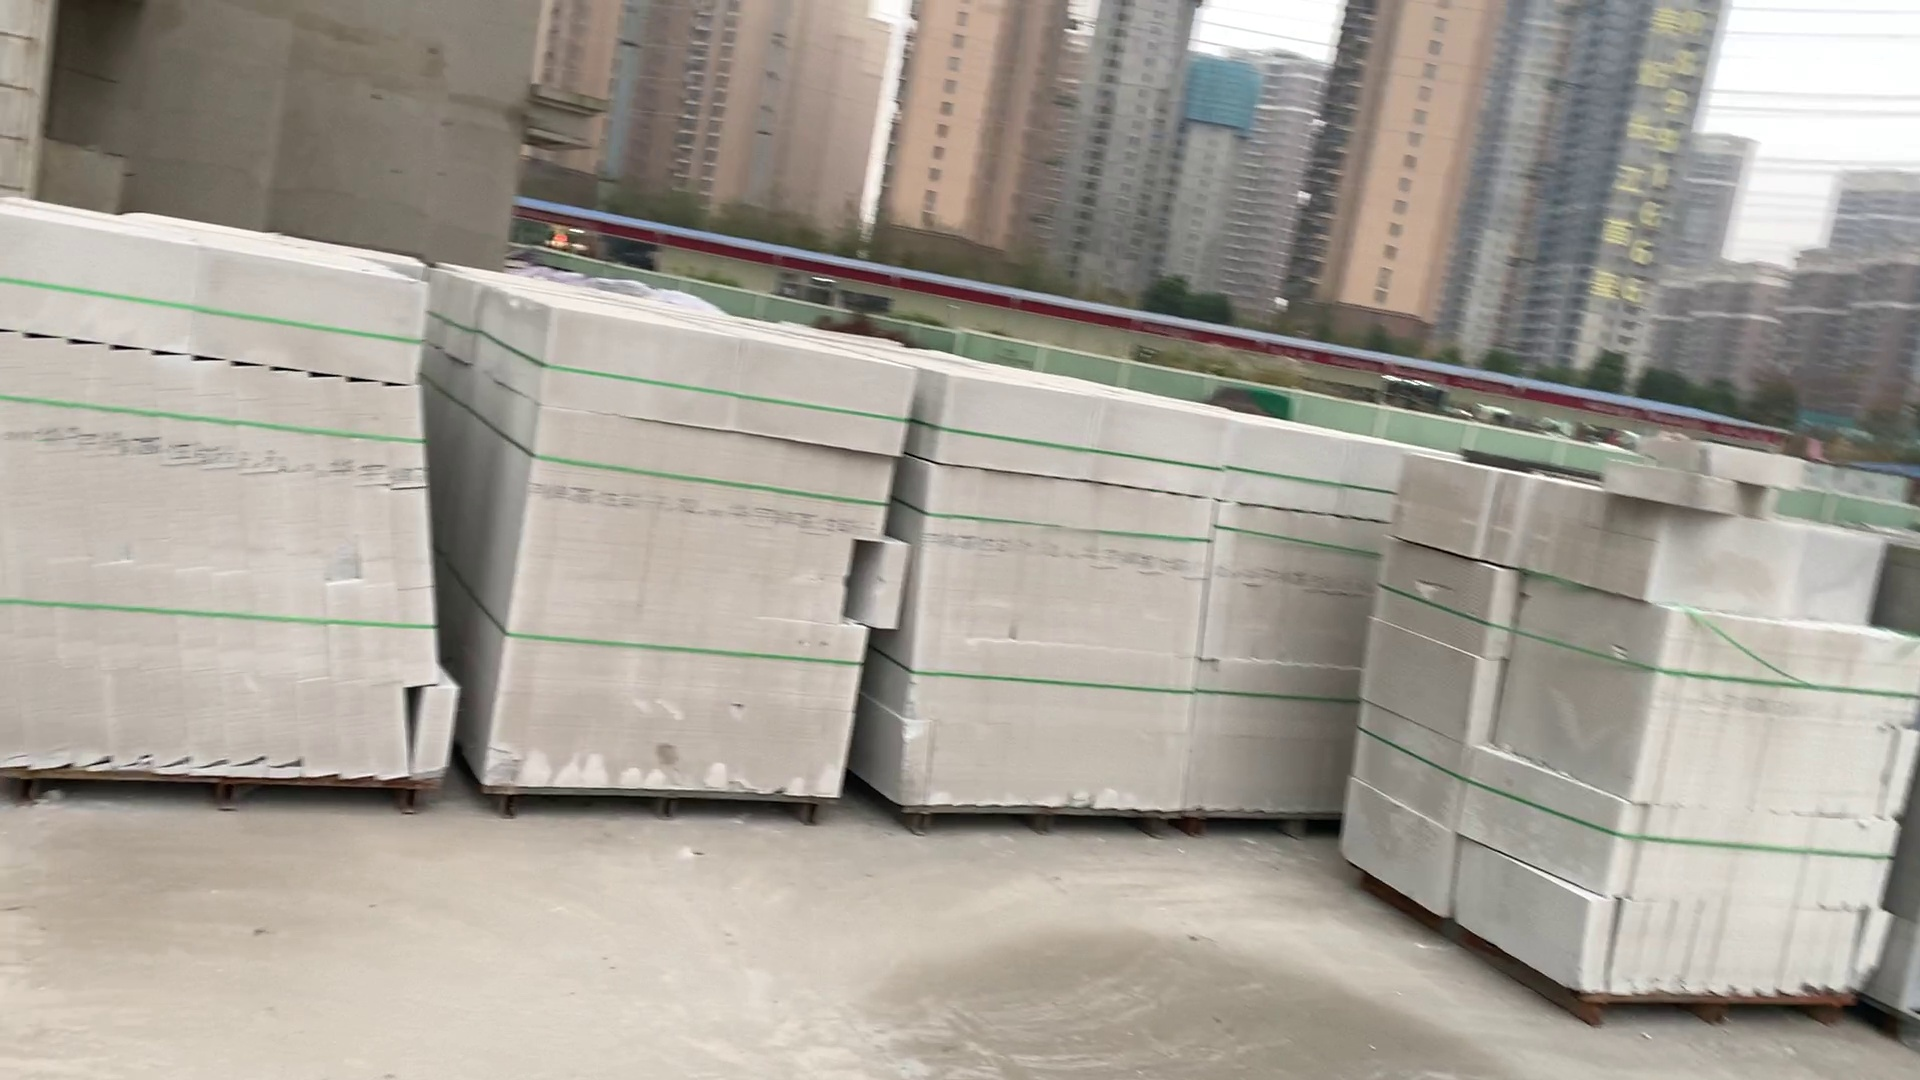brickwork: (1280, 431, 1920, 1018), (400, 239, 886, 878), (905, 334, 1470, 857), (7, 208, 452, 825)
